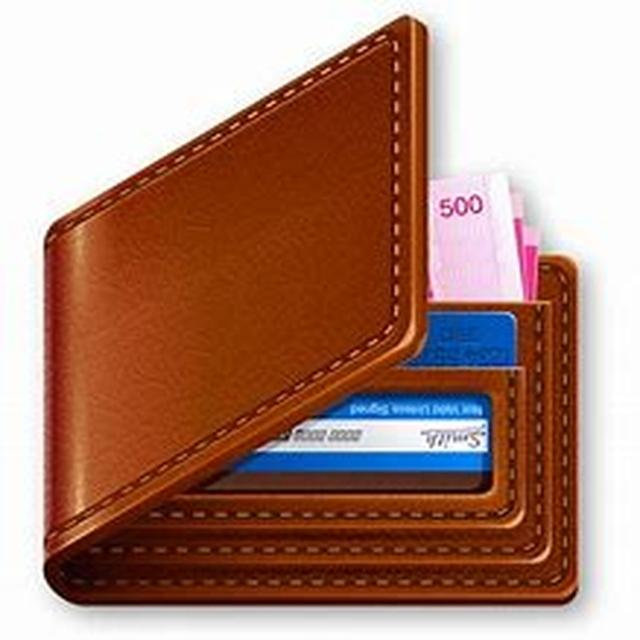card: (129, 307, 550, 488)
wallet: (31, 32, 594, 630)
